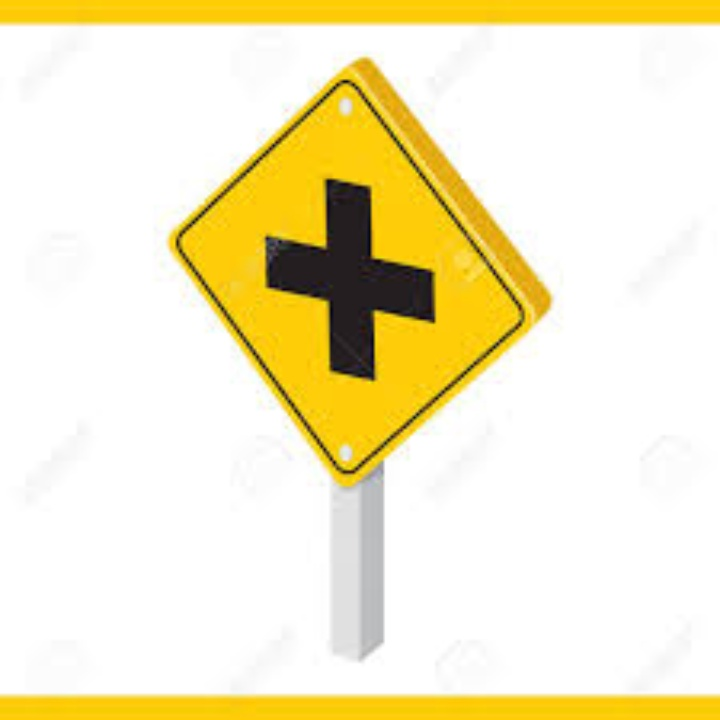inter: (252, 161, 454, 406)
